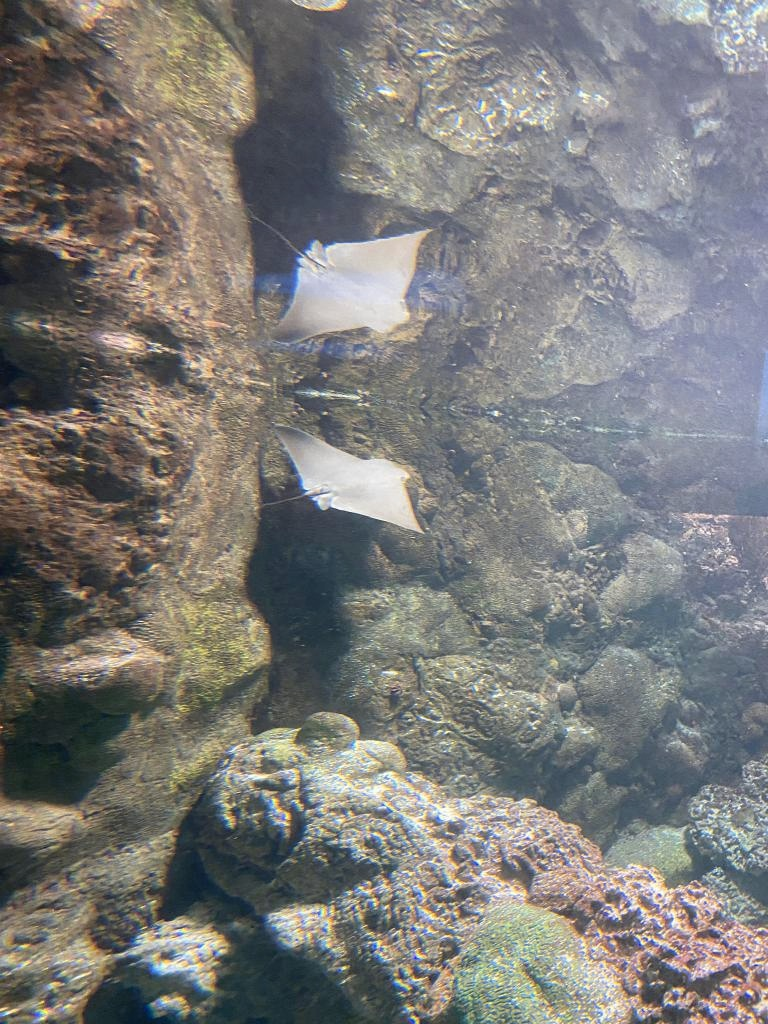stingray: (274, 420, 430, 538), (282, 230, 428, 344)
